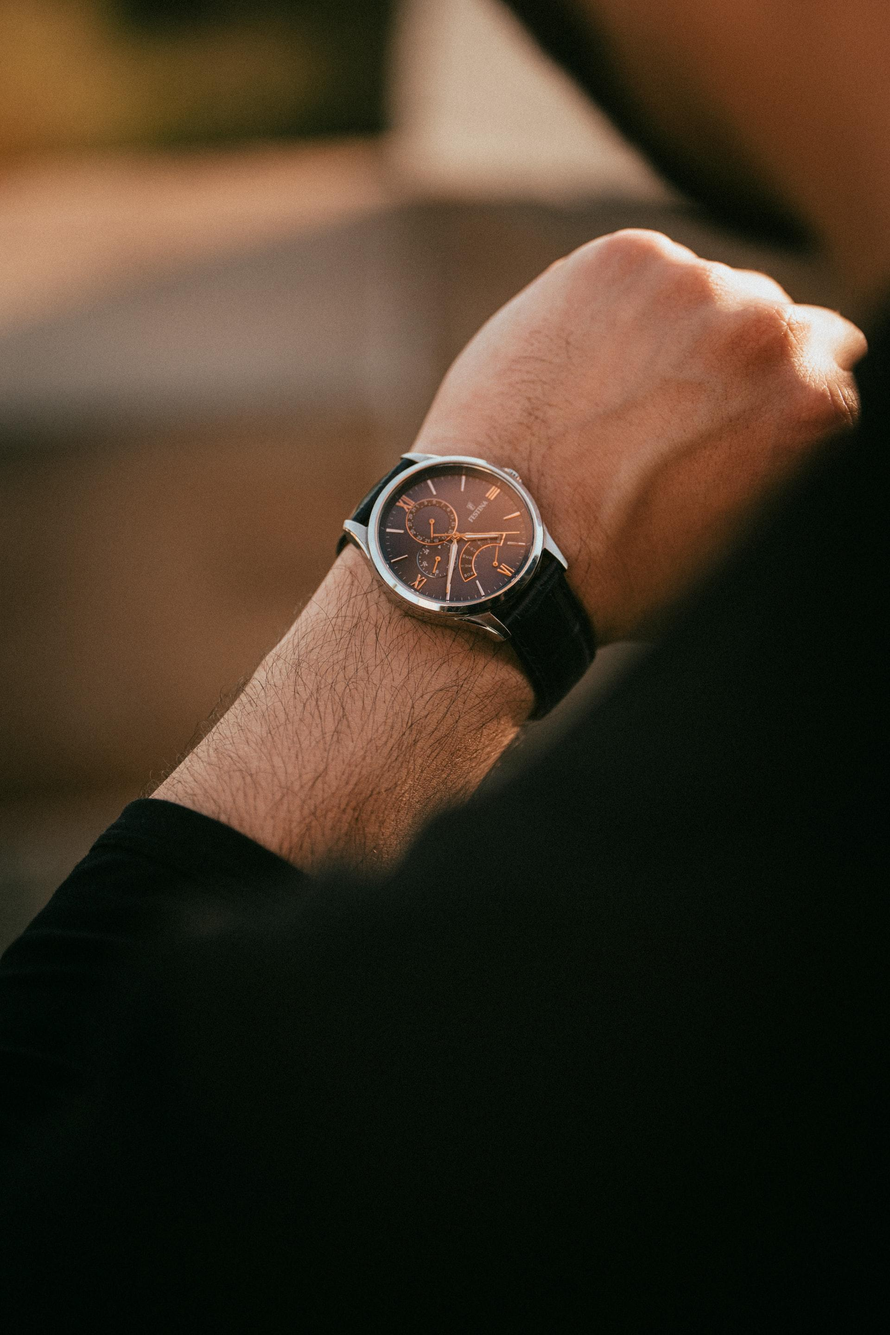watch: (337, 437, 609, 723)
